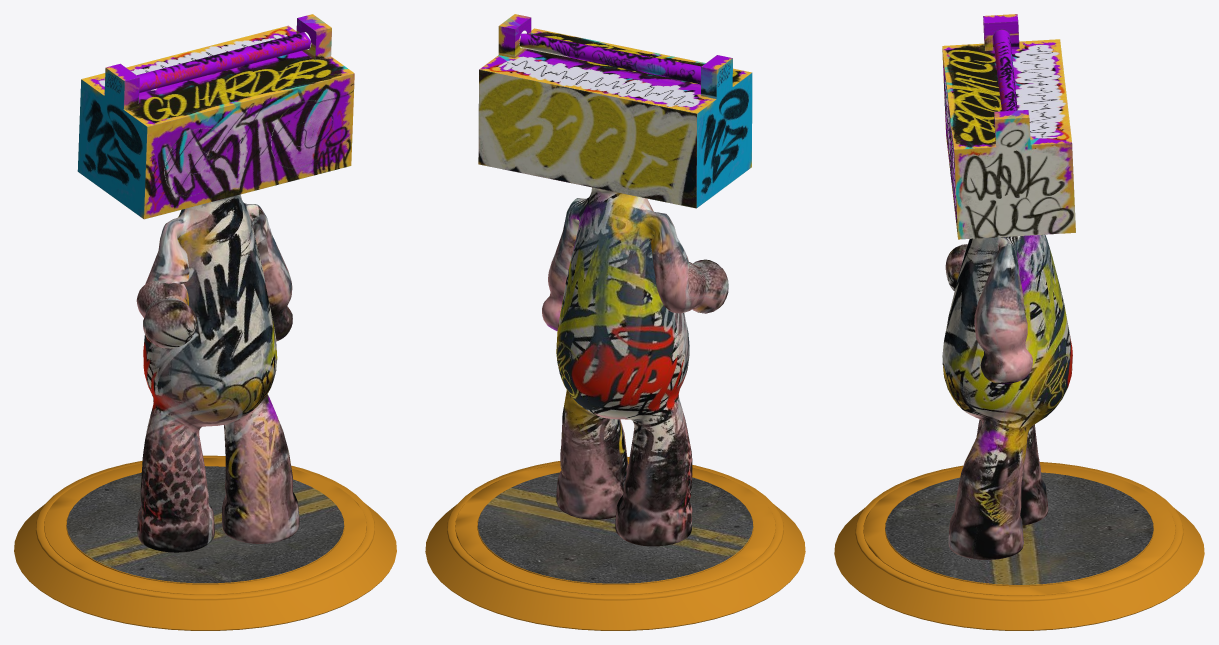
The picture shows the model from 3 angles, left to right: view 1: azimuth 30°, elevation 25°; view 2: azimuth 150°, elevation 25°; view 3: azimuth 270°, elevation 25°; orthographic projection. The views are drawn at different scales.
Size of the model in its own units: 1.45 by 2.12 by 1.45.
4 materials, 3 textured.
